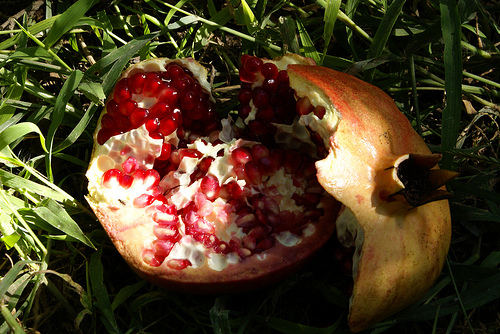pomogranate: (83, 49, 462, 333)
